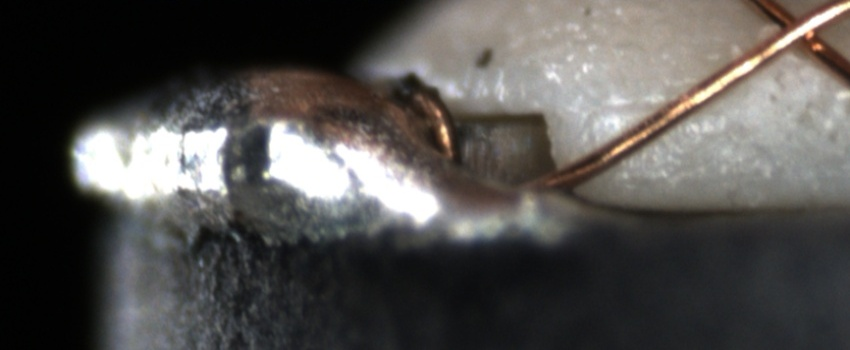CL: (753, 0, 839, 64)
DL: (590, 80, 685, 144)
TE: (407, 84, 464, 173)
